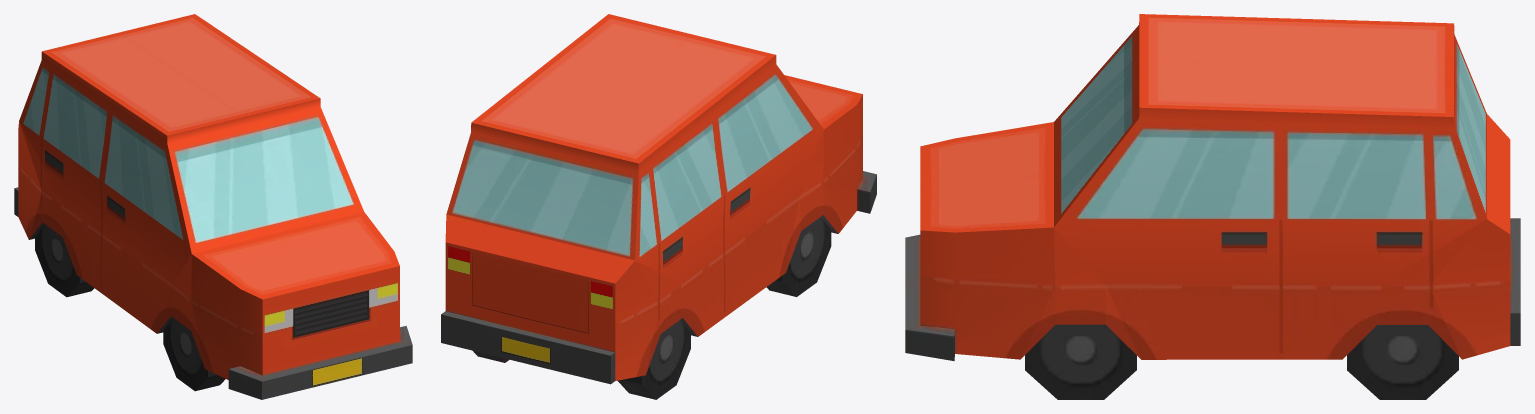
The model's file is city_car_orange.glb.
The picture shows the model from 3 angles, left to right: view 1: azimuth 30°, elevation 25°; view 2: azimuth 150°, elevation 25°; view 3: azimuth 270°, elevation 25°; orthographic projection. The views are drawn at different scales.
Visible parts, largest first — view 1: polySurface84; view 2: polySurface84; view 3: polySurface84.
Boxes of the visible parts, bbox=[...] form: polySurface84: bbox=[14, 14, 412, 399]; polySurface84: bbox=[441, 14, 876, 399]; polySurface84: bbox=[905, 14, 1520, 399].
Size of the model in its own units: 1.52 by 1.88 by 3.63.
Materials: 1 (1 with a texture image).
